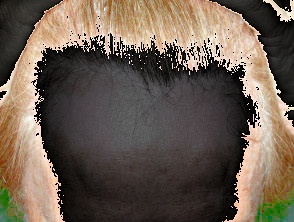vitiligo: (40, 48, 250, 189)
